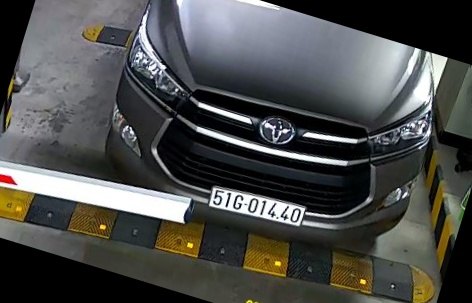plate: (204, 180, 307, 225)
